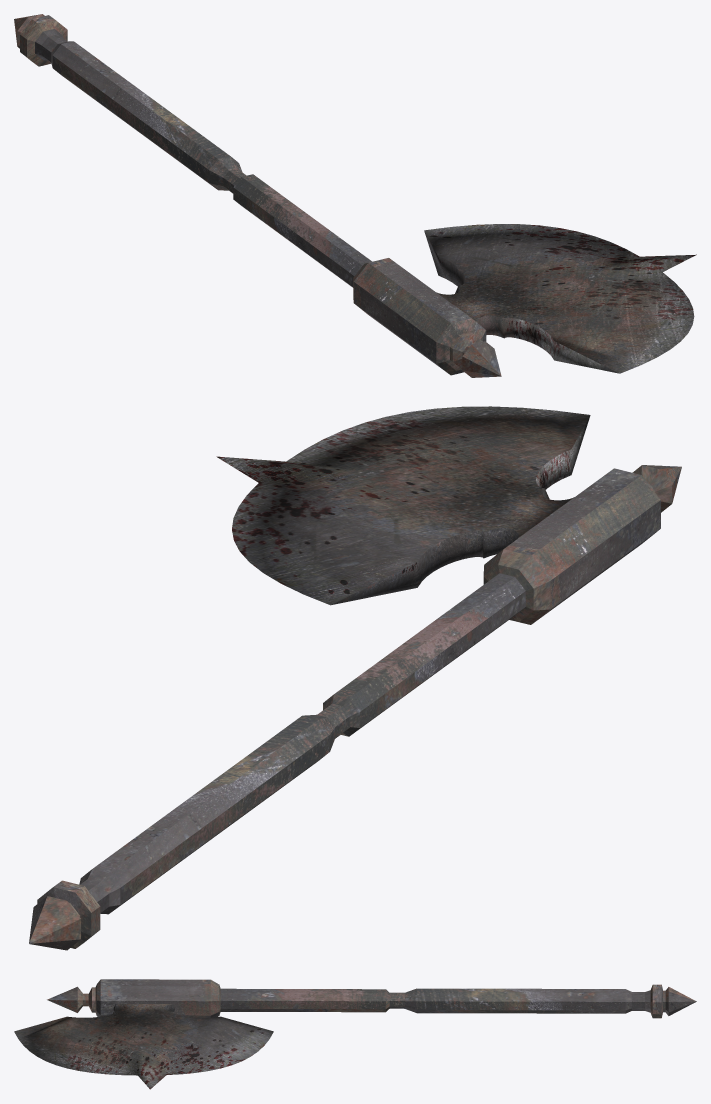
Rendered from single sidex axe fbx.fbx.
3 views of the same model, one above another, from view 1: azimuth 30°, elevation 25°; view 2: azimuth 150°, elevation 25°; view 3: azimuth 270°, elevation 25° (orthographic). The views are drawn at different scales.
Visible parts, largest first — view 1: BezierCurve.003, Circle; view 2: BezierCurve.003, Circle; view 3: Circle, BezierCurve.003.
Boxes of the visible parts, bbox=[...] form: BezierCurve.003: bbox=[424, 224, 696, 373]; Circle: bbox=[14, 14, 501, 377]; BezierCurve.003: bbox=[216, 406, 590, 605]; Circle: bbox=[29, 465, 681, 950]; Circle: bbox=[47, 979, 696, 1018]; BezierCurve.003: bbox=[14, 1004, 273, 1089].
Size of the model in its own units: 1405 by 236 by 4200.
Materials: 2 (2 with a texture image).
